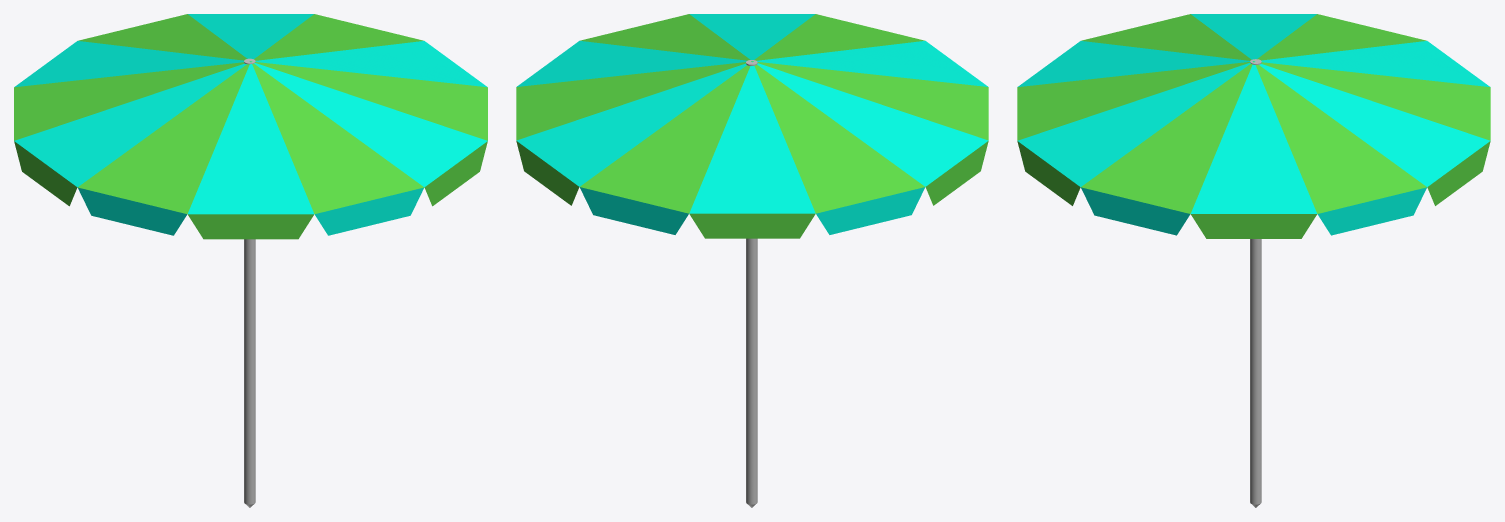
Rendered from parasol.dae.
3 views of the same model, side by side, from view 1: azimuth 30°, elevation 25°; view 2: azimuth 150°, elevation 25°; view 3: azimuth 270°, elevation 25° (orthographic).
Visible parts, largest first — view 1: Groupe_22 (×12), group_6, group_12, group_9, group_14, group_0, group_11; view 2: Groupe_22 (×12), group_6, group_10, group_2, group_3, group_5, group_11; view 3: Groupe_22 (×12), group_6, group_4, group_1, group_13, group_0, group_5.
Part boxes in pixels (x1,y1,x2,y2): Groupe_22 (×12): (14, 14, 487, 214); group_6: (244, 58, 255, 504); group_12: (188, 214, 313, 239); group_9: (315, 187, 423, 235); group_14: (78, 187, 186, 235); group_0: (424, 141, 487, 206); group_11: (14, 141, 77, 206); Groupe_22 (×12): (516, 14, 988, 213); group_6: (746, 60, 757, 504); group_10: (689, 213, 815, 238); group_2: (579, 187, 688, 234); group_3: (816, 187, 925, 234); group_5: (516, 141, 579, 205); group_11: (925, 141, 988, 205); Groupe_22 (×12): (1017, 14, 1490, 213); group_6: (1250, 59, 1261, 504); group_4: (1191, 214, 1316, 238); group_1: (1081, 187, 1190, 235); group_13: (1317, 187, 1426, 235); group_0: (1017, 141, 1080, 205); group_5: (1427, 141, 1490, 205).
Bounding box in the file's own units: 9627 × 9627 × 10017.
